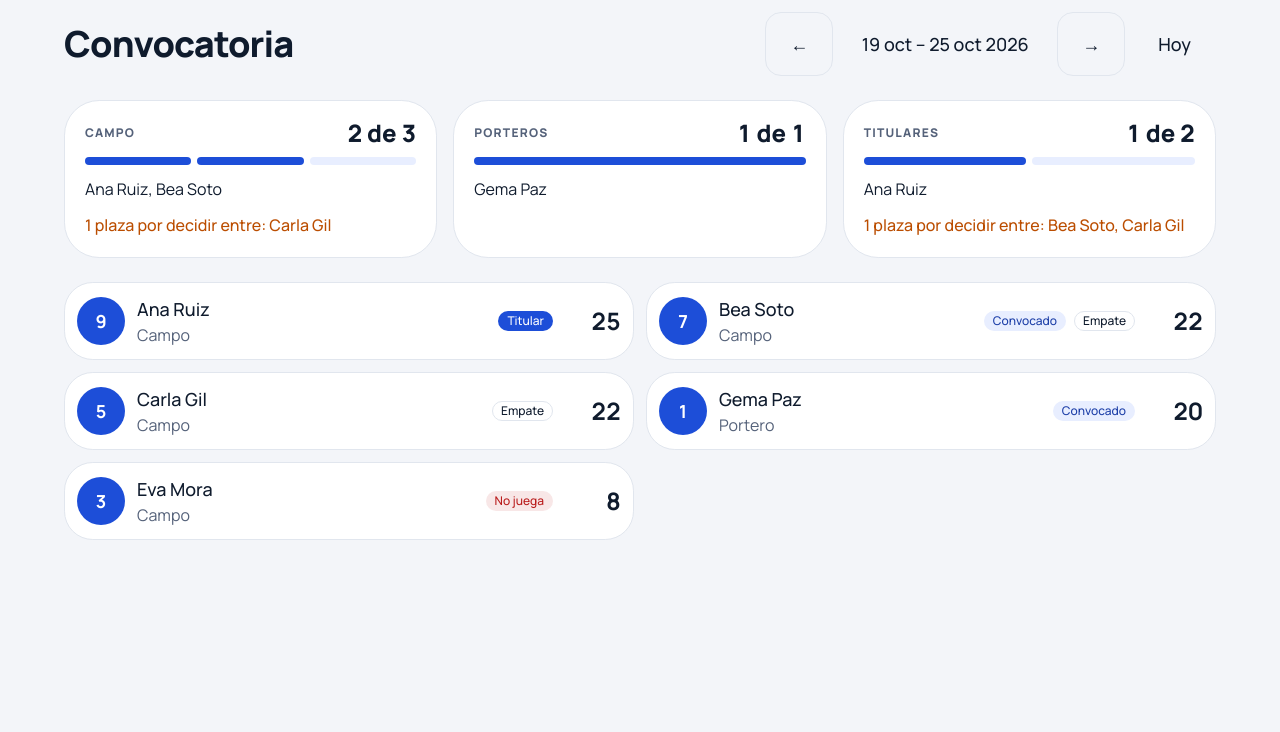
Scenario: ConvocatoriaPage › cambia de semana con las flechas y pide la nueva semana
Click the button named "Semana anterior" at (799, 44), box [765,12,833,76]
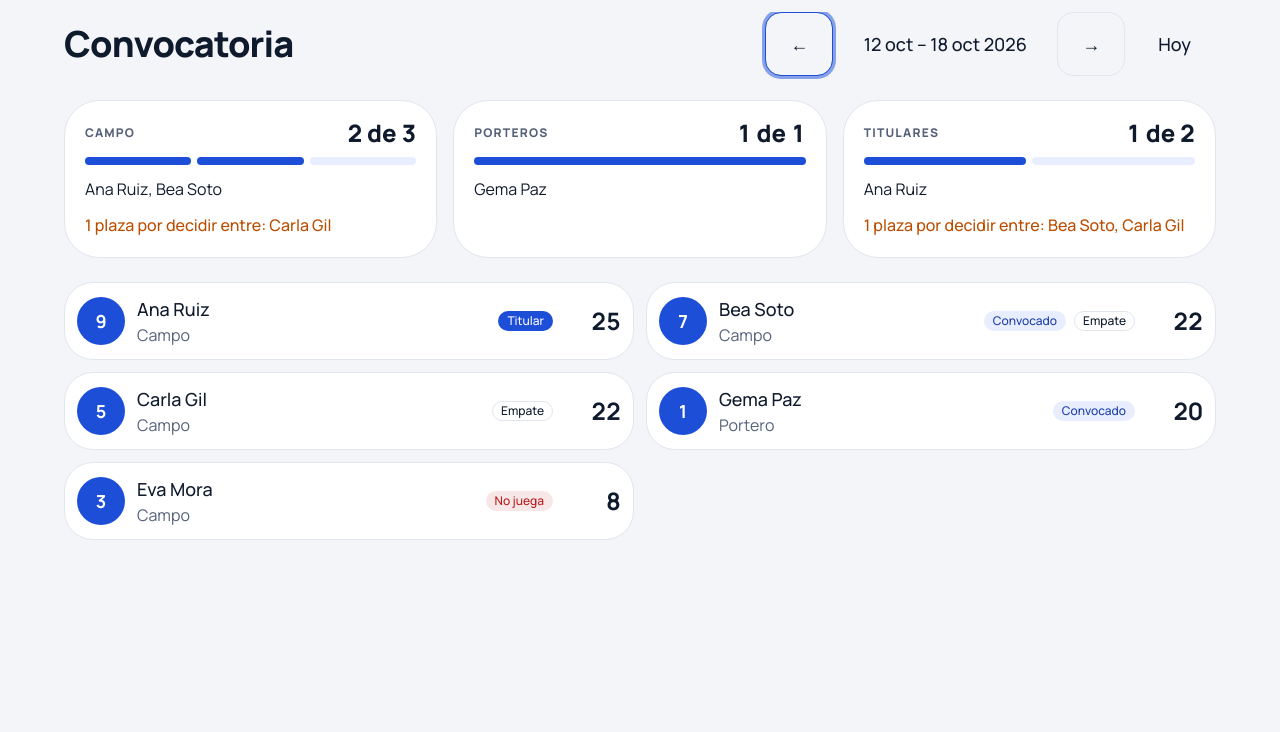
Result: the text "12 oct – 18 oct 2026" is shown at [864,32,1027,56]
